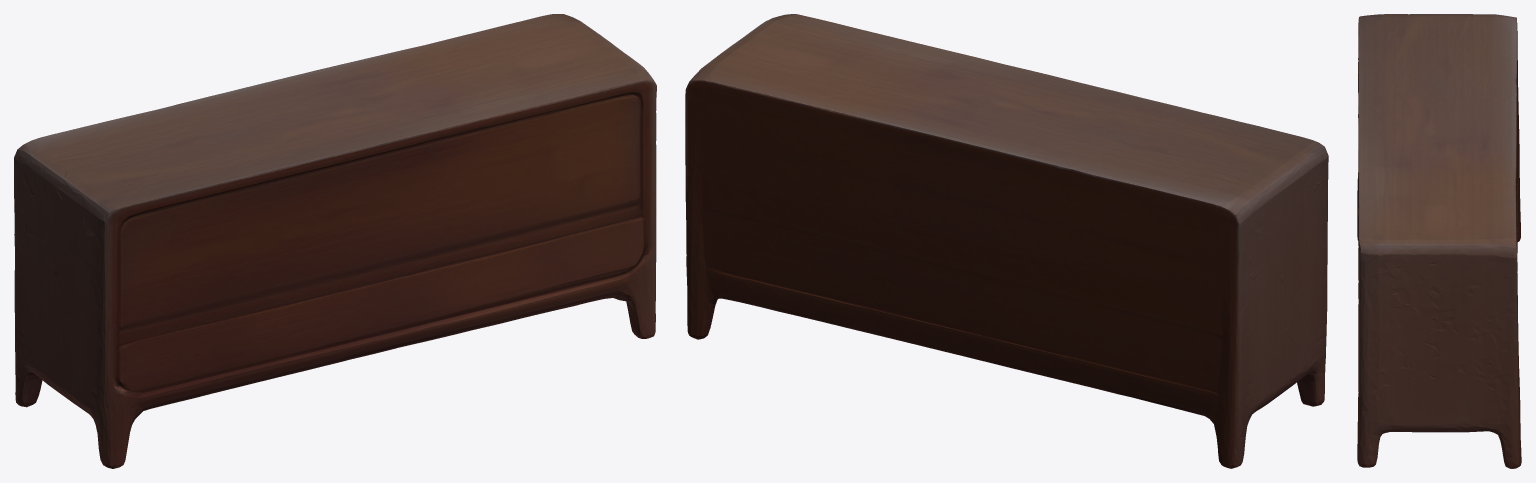
The picture shows the model from 3 angles, left to right: view 1: azimuth 30°, elevation 25°; view 2: azimuth 150°, elevation 25°; view 3: azimuth 270°, elevation 25°; orthographic projection. The views are drawn at different scales.
Visible parts, largest first — view 1: world; view 2: world; view 3: world.
Part boxes in pixels (<box>): world: <box>14,14,656,468</box>; world: <box>685,14,1328,468</box>; world: <box>1357,14,1521,468</box>.
Bounding box in the file's own units: 1 × 0.4525 × 0.2959.
Materials: 1 (1 with a texture image).
